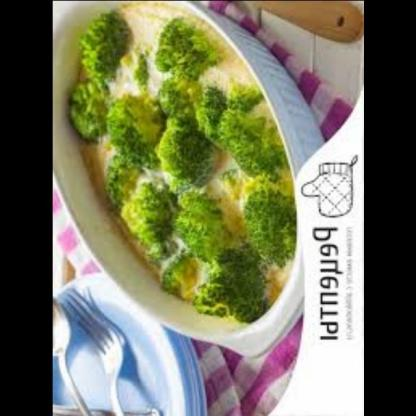broccoli: (69, 14, 288, 315)
